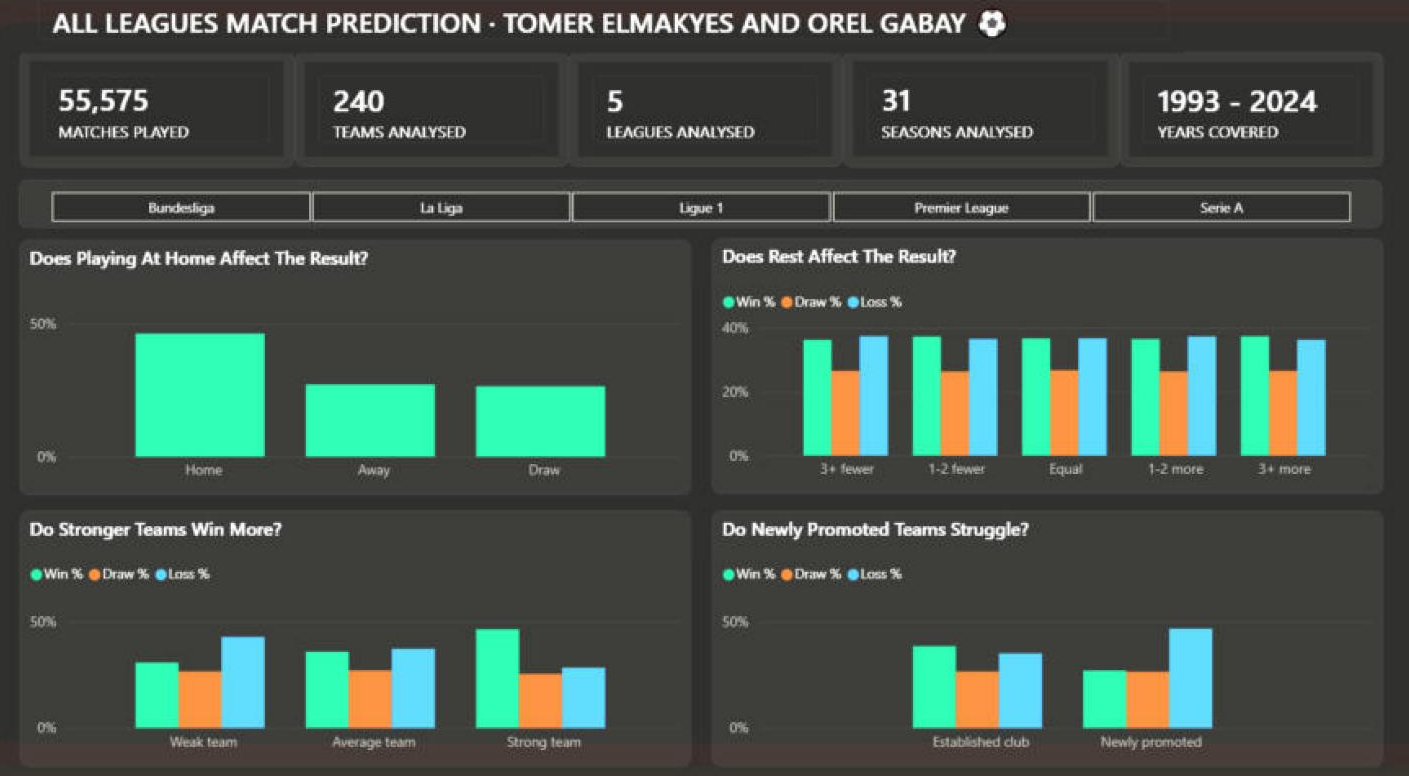

Layout of this report page (visuals, bound fields, positions):
{"tool":"powerbi","page":{"name":"Page 1","canvas":[1280,720],"ordinal":0},"visuals":[{"type":"slicer","fields":{"Values":["DimLeague.League"]},"box":[40,176,1200,42],"z":0},{"type":"cardVisual","fields":{"Data":["Matches.Matches Played"]},"box":[40.5,63.1,241.7,102.4],"z":1000},{"type":"cardVisual","fields":{"Data":["Matches.Teams Analysed"]},"box":[282.1,64.3,241.7,101.2],"z":2000},{"type":"cardVisual","fields":{"Data":["DataDictionary.Leagues Analysed"]},"box":[523.8,64.3,241.7,101.2],"z":3000},{"type":"cardVisual","fields":{"Data":["DataDictionary.Seasons Analysed"]},"box":[765.5,63.1,242.9,102.4],"z":4000},{"type":"cardVisual","fields":{"Data":["DataDictionary.Years Covered"]},"box":[1008.3,64.3,232.1,101.2],"z":5000},{"type":"clusteredColumnChart","title":"Do Stronger Teams Win More?","fields":{"Category":["TeamMatches.Strength"],"Y":["TeamMatches.Win %","TeamMatches.Draw %","TeamMatches.Loss %"]},"box":[40.5,467.9,590.5,225],"z":6000},{"type":"clusteredColumnChart","title":"Does Rest Affect The Result?","fields":{"Category":["TeamMatches.RestBucket"],"Y":["TeamMatches.Win %","TeamMatches.Draw %","TeamMatches.Loss %"]},"box":[650,228,590,225],"z":7000},{"type":"clusteredColumnChart","title":"Does Playing At Home Affect The Result?","fields":{"Category":["Matches.Result"],"Y":["Matches.Share of Matches"]},"box":[40.5,228.6,590.5,225],"z":8000},{"type":"cardVisual","fields":{"Data":["DataDictionary.Dashboard Title"]},"box":[40,0,1030,70],"z":9000},{"type":"clusteredColumnChart","title":"Do Newly Promoted Teams Struggle?","fields":{"Category":["TeamMatches.Status"],"Y":["TeamMatches.Win %","TeamMatches.Draw %","TeamMatches.Loss %"]},"box":[650,467.9,590.5,225],"z":10000}]}

Visuals, with their boxes in screenshot pixels (x1, y1, x2, y2), scaled from the page's 1280x720 canvas onto the 1409x776 screenshot:
slicer - DimLeague.League: locate(44, 190, 1365, 235)
cardVisual - Matches.Matches Played: locate(45, 68, 311, 178)
cardVisual - Matches.Teams Analysed: locate(311, 69, 577, 178)
cardVisual - DataDictionary.Leagues Analysed: locate(577, 69, 843, 178)
cardVisual - DataDictionary.Seasons Analysed: locate(843, 68, 1110, 178)
cardVisual - DataDictionary.Years Covered: locate(1110, 69, 1365, 178)
"Do Stronger Teams Win More?" clusteredColumnChart: locate(45, 504, 695, 747)
"Does Rest Affect The Result?" clusteredColumnChart: locate(716, 246, 1365, 488)
"Does Playing At Home Affect The Result?" clusteredColumnChart: locate(45, 246, 695, 489)
cardVisual - DataDictionary.Dashboard Title: locate(44, 0, 1178, 75)
"Do Newly Promoted Teams Struggle?" clusteredColumnChart: locate(716, 504, 1366, 747)
